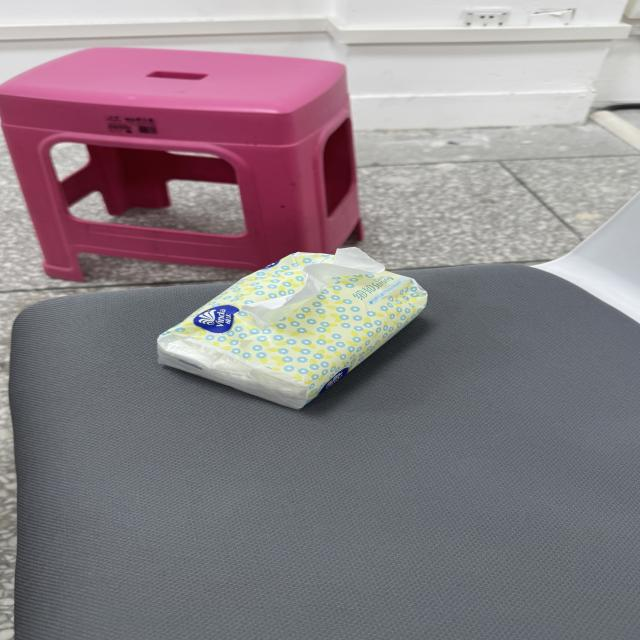tissue: (158, 248, 426, 408)
